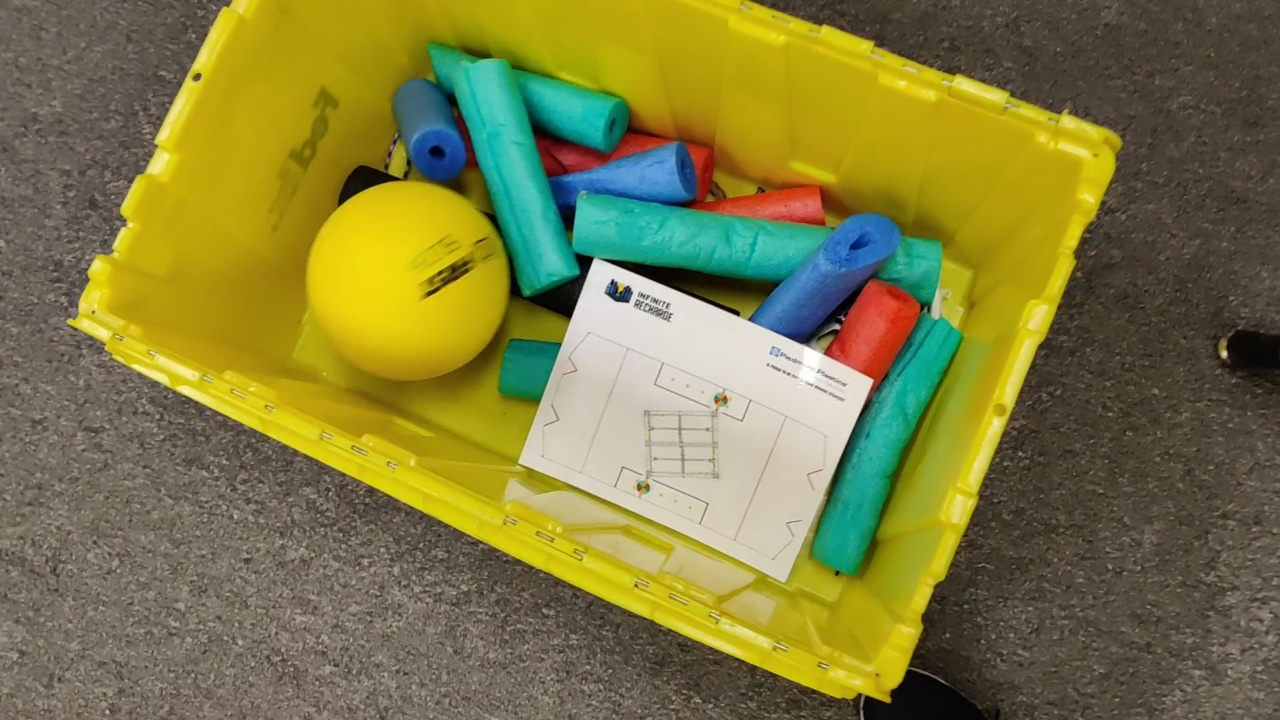Ball: (304, 182, 513, 381)
